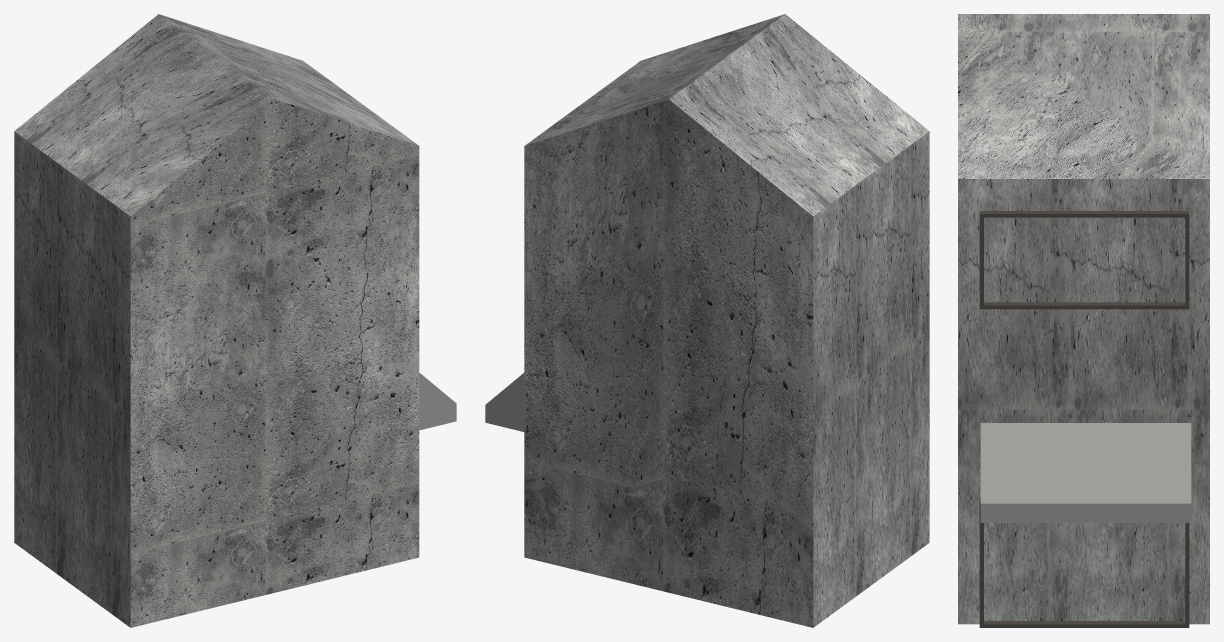
The model's file is dummyB.fbx.
The picture shows the model from 3 angles, left to right: view 1: azimuth 30°, elevation 25°; view 2: azimuth 150°, elevation 25°; view 3: azimuth 270°, elevation 25°; orthographic projection. The views are drawn at different scales.
Parts seen in each view (by area): view 1: Cube.016; view 2: Cube.016; view 3: Cube.016.
Boxes of the visible parts, x1,y1,x2,y2 form: Cube.016: (14, 14, 456, 627); Cube.016: (485, 14, 929, 627); Cube.016: (958, 14, 1209, 627).
Size of the model in its own units: 491 by 689 by 294.
